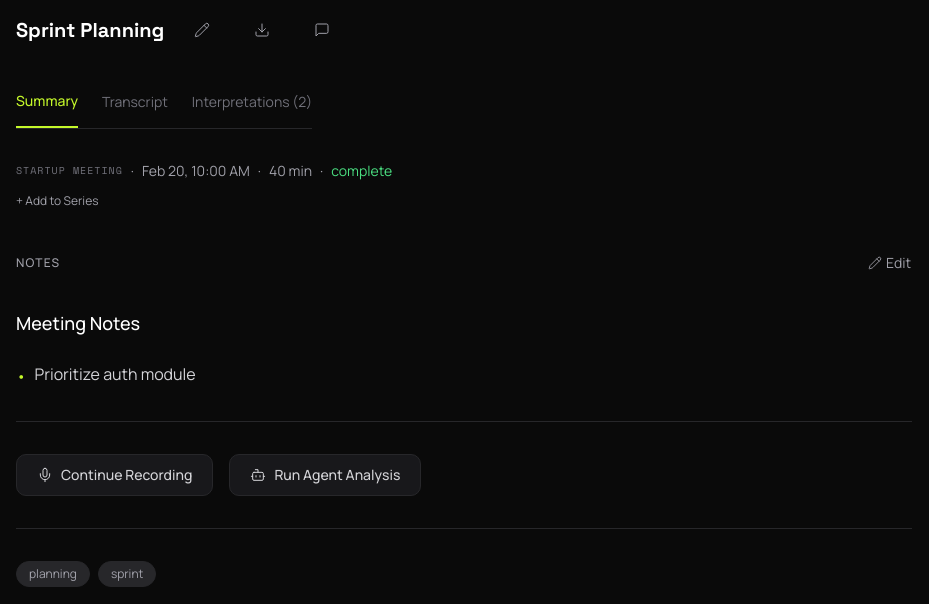
Scenario: SessionView › Transcript tab shows transcript text
Expected: the heading "Sprint Planning" is shown, [16,16,164,44]
Click the button "Transcript".
click(135, 106)  # box [102,84,168,128]
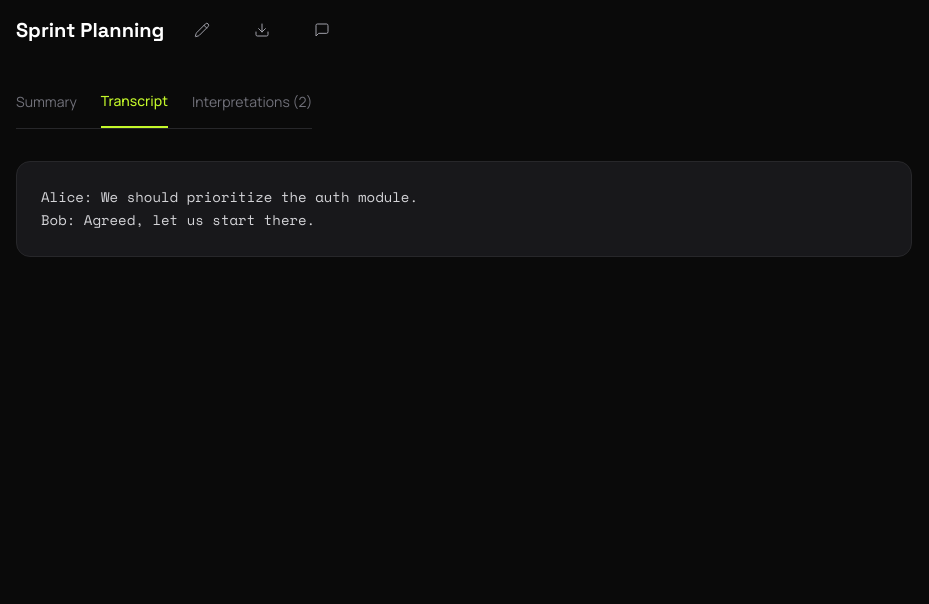
Expected: the text "Alice: We should prioritize the auth module" is shown, [41,186,418,230]
